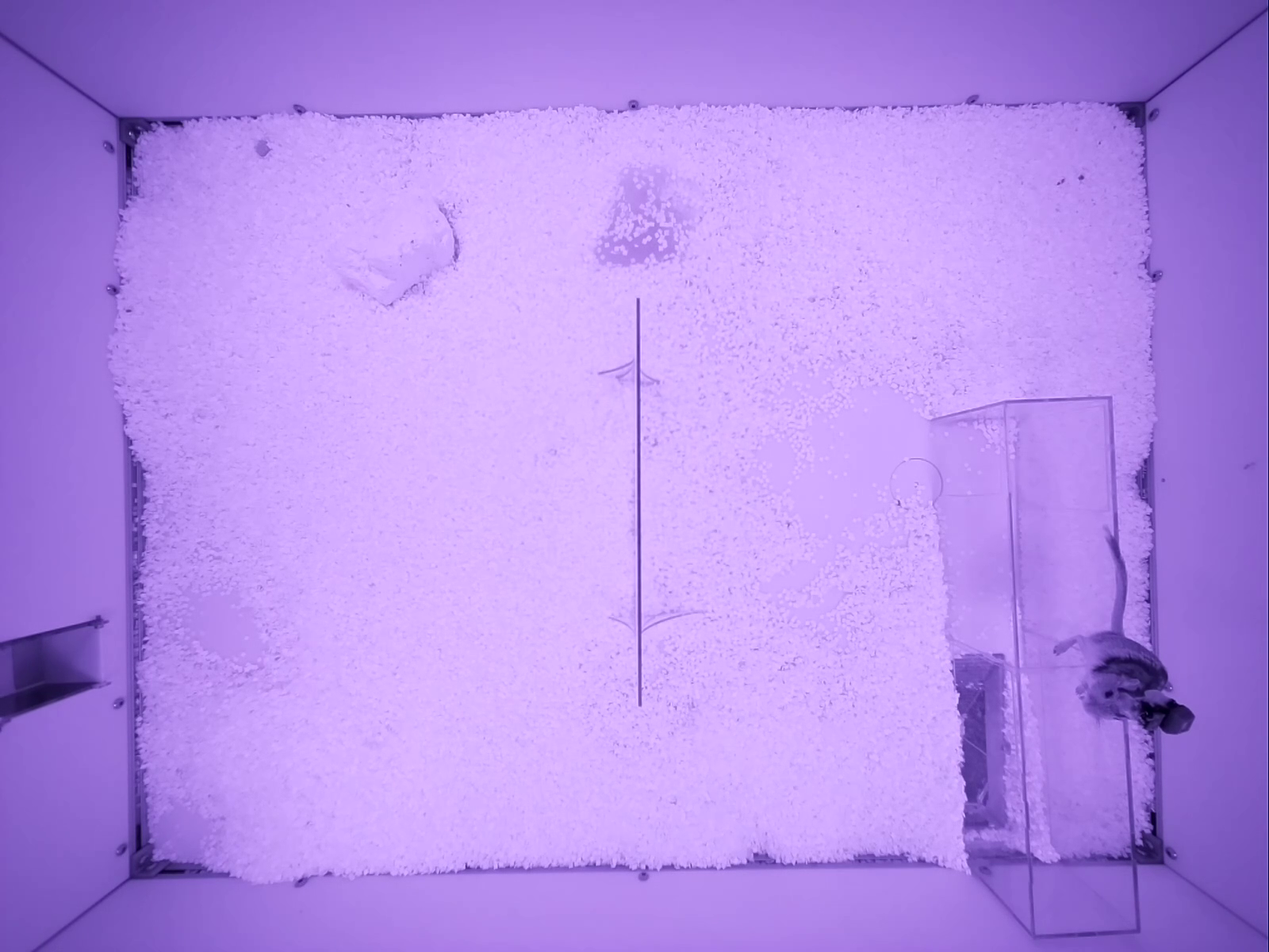adult_back: (1054, 528, 1193, 732)
